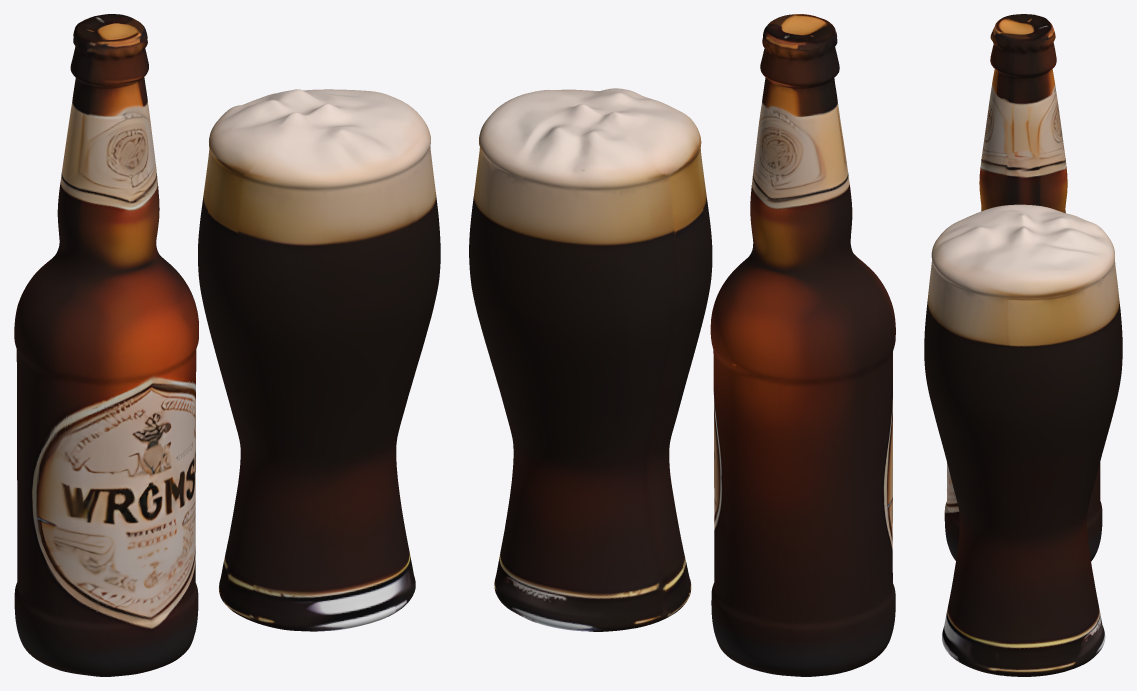
Rendered from Ritual De Lo Habitual-NOW.glb.
The picture shows the model from 3 angles, left to right: view 1: azimuth 30°, elevation 25°; view 2: azimuth 150°, elevation 25°; view 3: azimuth 270°, elevation 25°; orthographic projection. The views are drawn at different scales.
Visible parts, largest first — view 1: texture_v100.001; view 2: texture_v100.001; view 3: texture_v100.001.
Part boxes in pixels (bbox=[...]): texture_v100.001: bbox=[14, 14, 440, 676]; texture_v100.001: bbox=[469, 14, 895, 676]; texture_v100.001: bbox=[924, 14, 1122, 676].
Bounding box in the file's own units: 0.6848 × 1.02 × 0.3443.
1 material, 1 textured.
